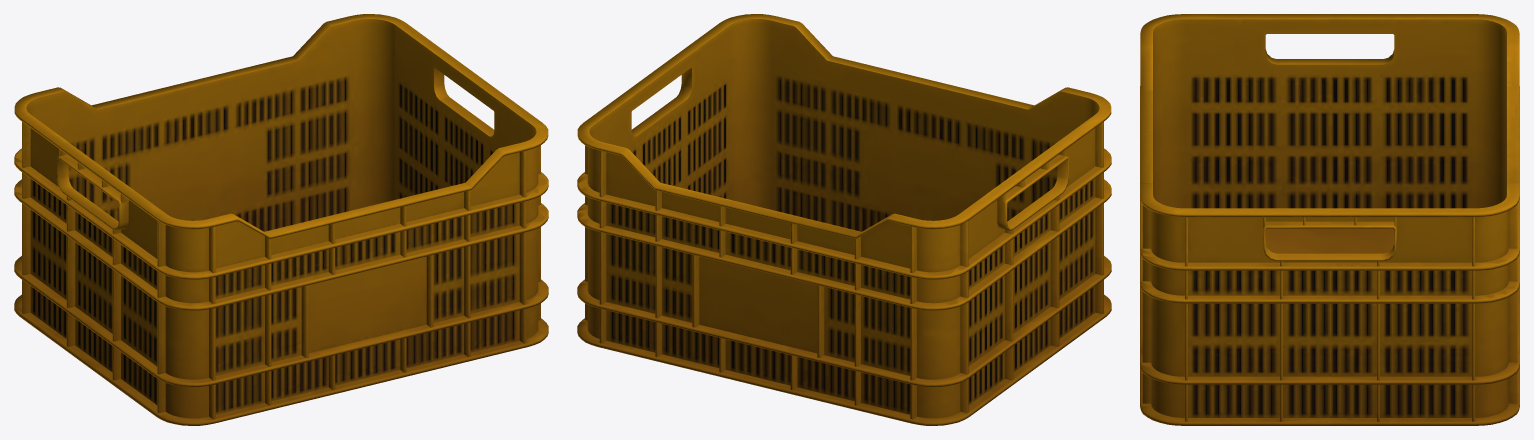
File: plastic_crate_02.glb
3 renders of one model, left to right at view 1: azimuth 30°, elevation 25°; view 2: azimuth 150°, elevation 25°; view 3: azimuth 270°, elevation 25°, orthographic. The views are drawn at different scales.
Visible parts, largest first — view 1: plastic_crate_02; view 2: plastic_crate_02; view 3: plastic_crate_02.
Part boxes in pixels (x1,y1,x2,y2): plastic_crate_02: [14, 14, 548, 425]; plastic_crate_02: [577, 14, 1111, 425]; plastic_crate_02: [1140, 14, 1519, 425].
Bounding box in the file's own units: 0.5055 × 0.2541 × 0.4055.
Materials: 1 (1 with a texture image).
